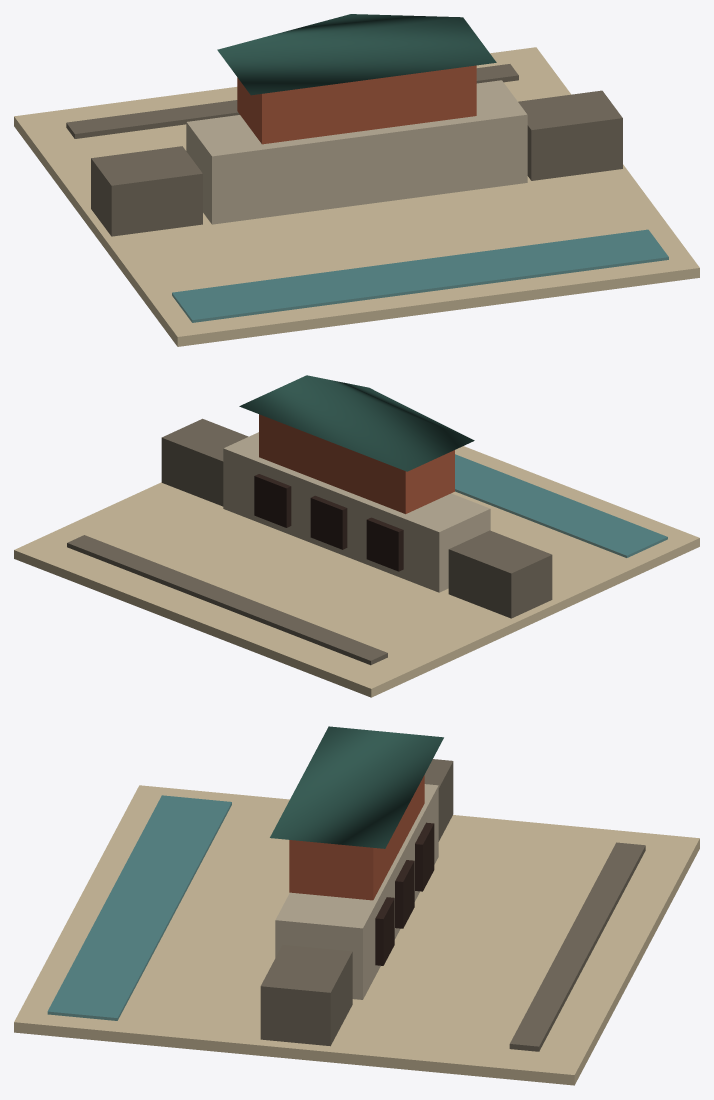
File: model-medium.glb
3 renders of one model, top to bottom at view 1: azimuth 30°, elevation 25°; view 2: azimuth 150°, elevation 25°; view 3: azimuth 270°, elevation 25°, orthographic. The views are drawn at different scales.
Visible parts, largest first — view 1: context_site_plinth, city_gate_platform, context_water_edge, side_wall_segment (×2), gatehouse_roof, upper_gatehouse_body, front_scale_strip; view 2: context_site_plinth, city_gate_platform, side_wall_segment (×2), gatehouse_roof, upper_gatehouse_body, context_water_edge, front_scale_strip, arched_gate_opening (×3); view 3: context_site_plinth, context_water_edge, gatehouse_roof, side_wall_segment (×2), city_gate_platform, front_scale_strip, upper_gatehouse_body, arched_gate_opening (×3).
Boxes of the visible parts, x1,y1,x2,y2 form: context_site_plinth: [14, 47, 699, 346]; city_gate_platform: [186, 80, 527, 224]; context_water_edge: [172, 229, 668, 322]; side_wall_segment (×2): [91, 90, 622, 236]; gatehouse_roof: [217, 14, 496, 95]; upper_gatehouse_body: [237, 65, 476, 144]; front_scale_strip: [66, 64, 518, 138]; context_site_plinth: [14, 446, 699, 697]; city_gate_platform: [223, 432, 490, 592]; side_wall_segment (×2): [161, 418, 552, 618]; gatehouse_roof: [239, 375, 474, 471]; upper_gatehouse_body: [259, 414, 454, 514]; context_water_edge: [455, 454, 667, 557]; front_scale_strip: [67, 535, 387, 665]; arched_gate_opening (×3): [254, 474, 403, 571]; context_site_plinth: [14, 785, 699, 1085]; context_water_edge: [47, 795, 231, 1020]; gatehouse_roof: [270, 726, 443, 848]; side_wall_segment (×2): [260, 759, 453, 1046]; city_gate_platform: [275, 784, 438, 999]; front_scale_strip: [509, 842, 645, 1051]; upper_gatehouse_body: [289, 775, 424, 900]; arched_gate_opening (×3): [375, 822, 434, 965].
Bounding box in the file's own units: 9.55 × 2.9 × 9.55.
